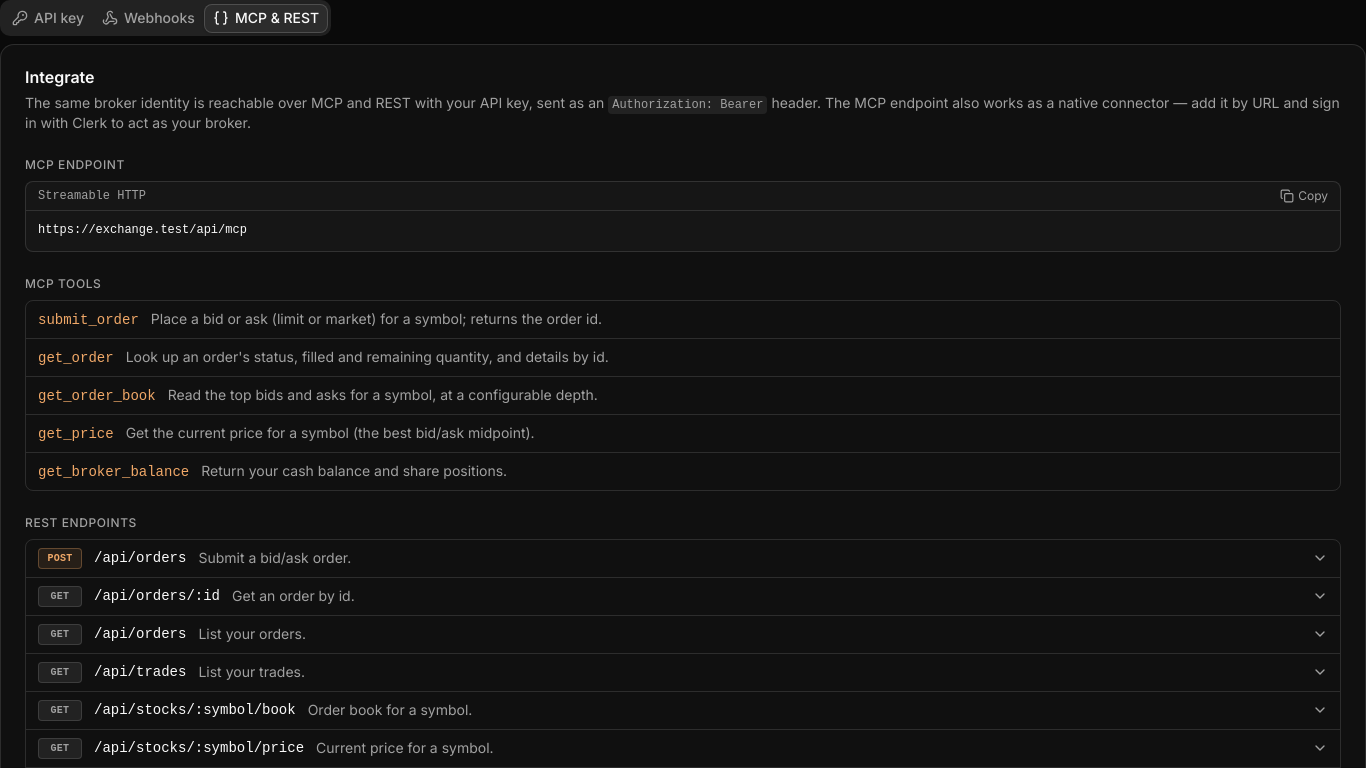
Test case: Developer tabs › switches to the Webhooks section on tab change
The width and height of the screenshot is (1366, 768).
Press the mouse on the tab "Webhooks" at (148, 18), box [93,4,204,32]
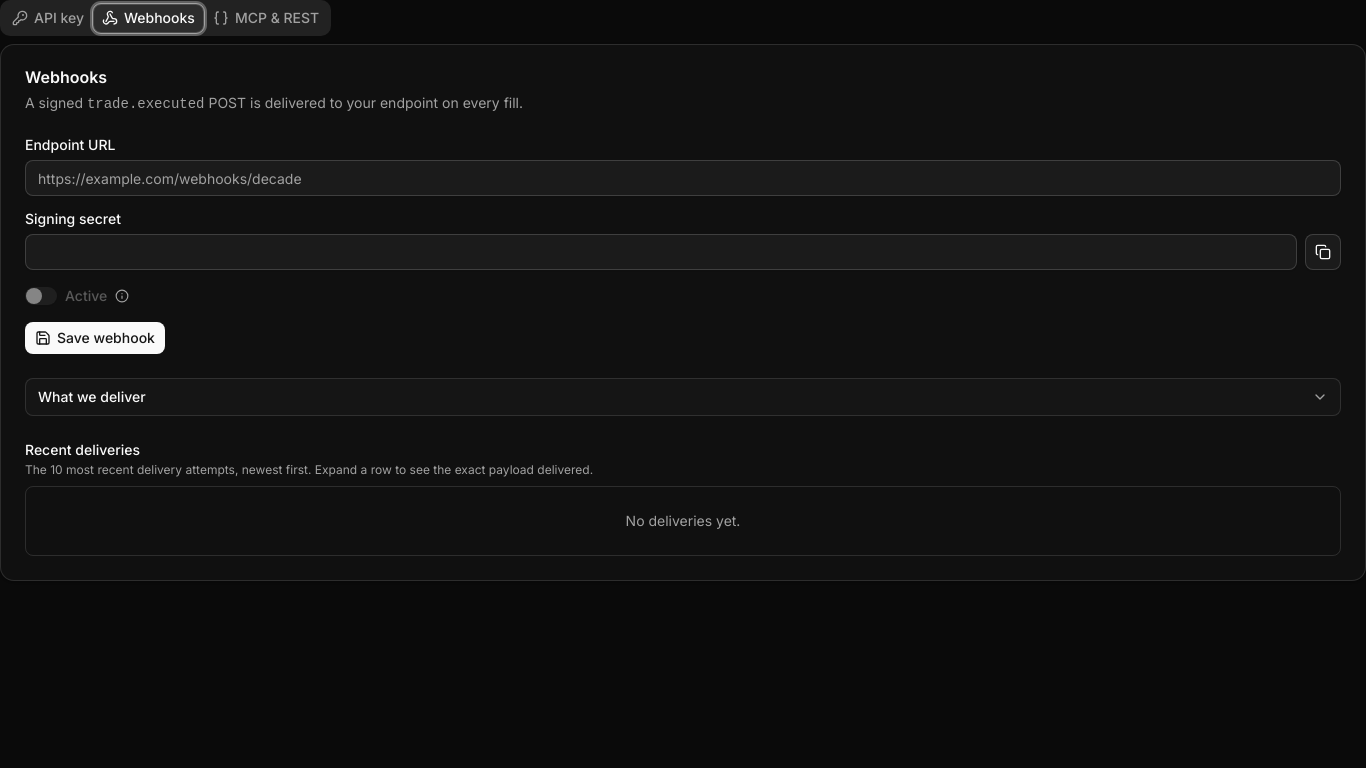
Expected: the field labelled "Endpoint URL" is shown, [25,160,1341,196]
